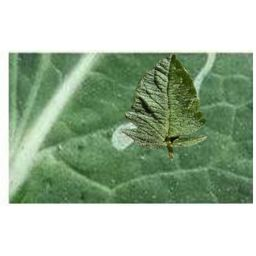liriomyza: (194, 53, 217, 98), (110, 121, 136, 153)
